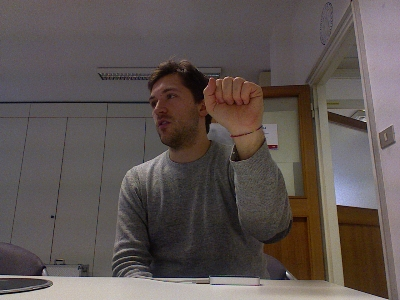石头: (202, 74, 263, 133)
